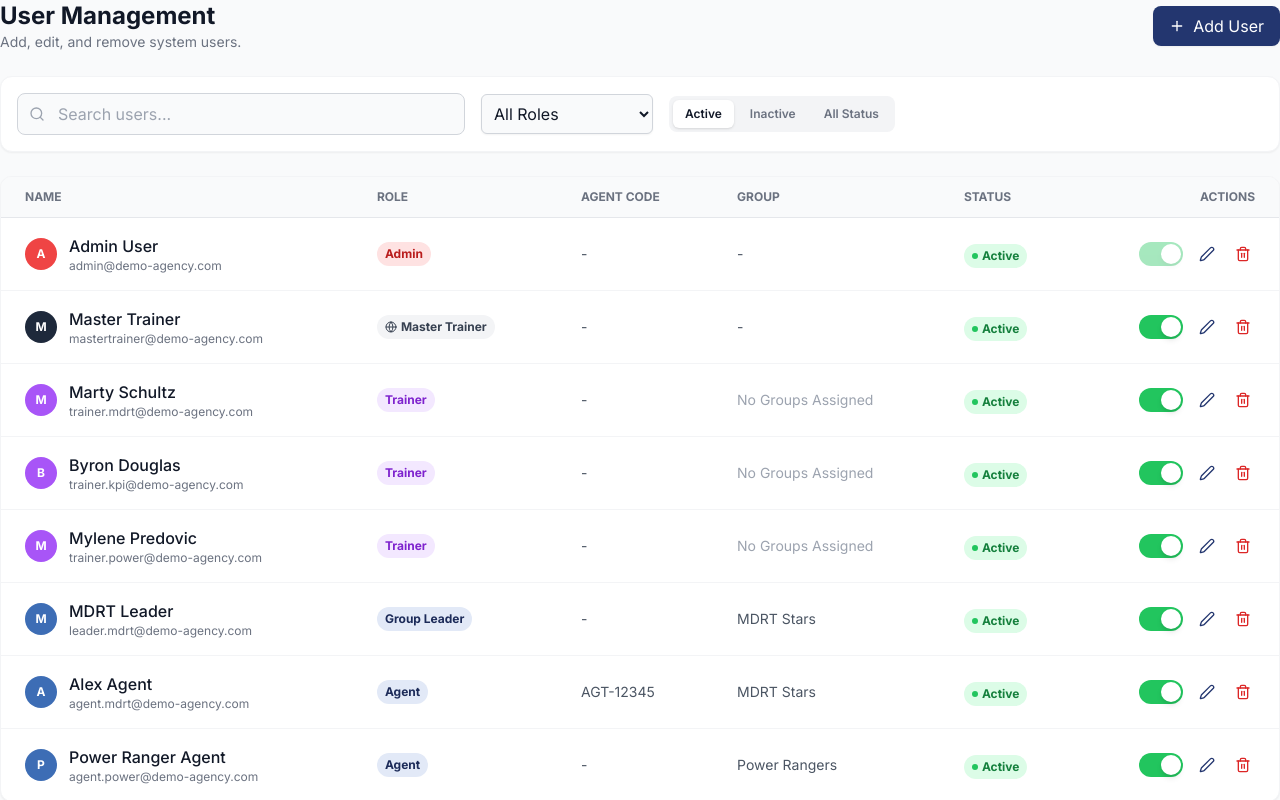
AdminUsers › filters users when searching by name
This screenshot has width=1280, height=800.
Check: the text "Marty Schultz" is shown, box top-left (69, 382), bottom-right (176, 402)
// Type "Marty" into the search input
Type "Marty" into the field with placeholder "Search users...". click: (241, 114)
box: top-left (17, 93), bottom-right (465, 135)
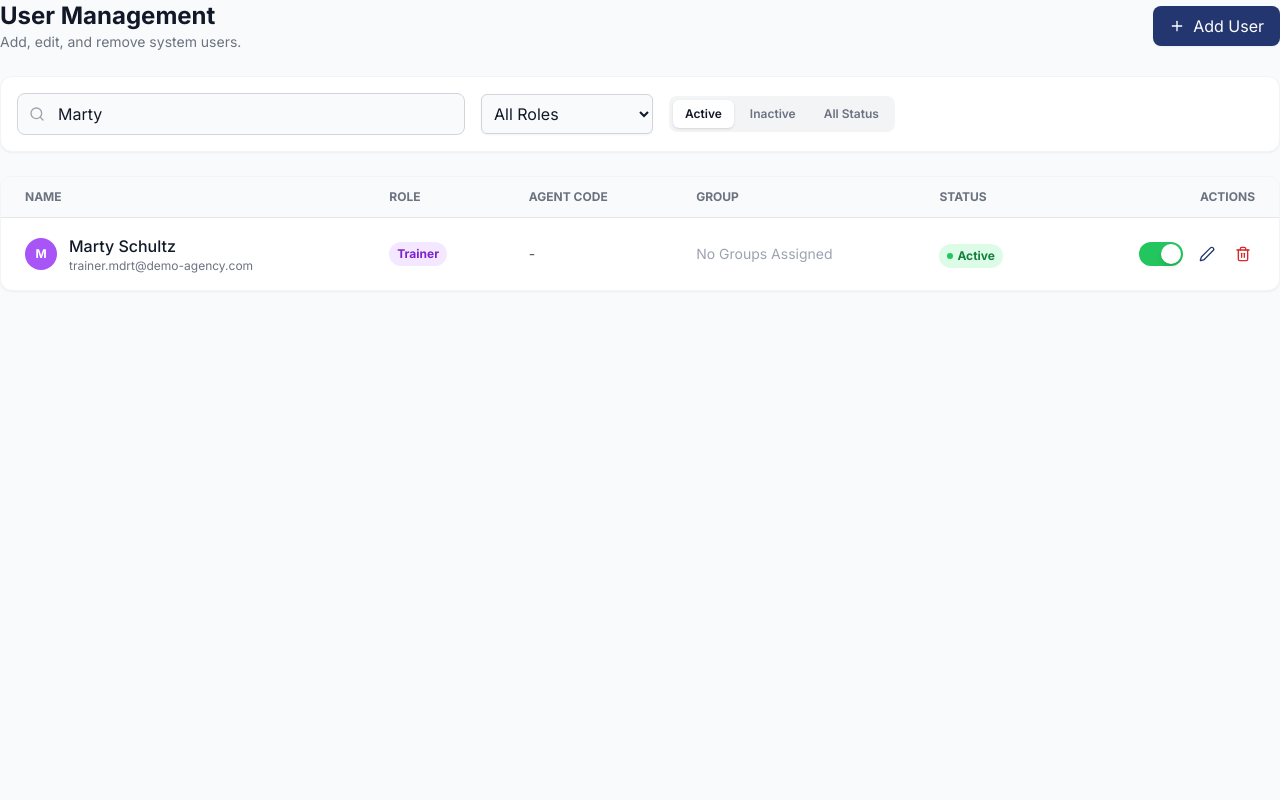
Check: the text "Marty Schultz" is shown, box top-left (69, 236), bottom-right (176, 256)
Check: the text "Mylene Predovic" is gone
Check: the text "Byron Douglas" is gone
